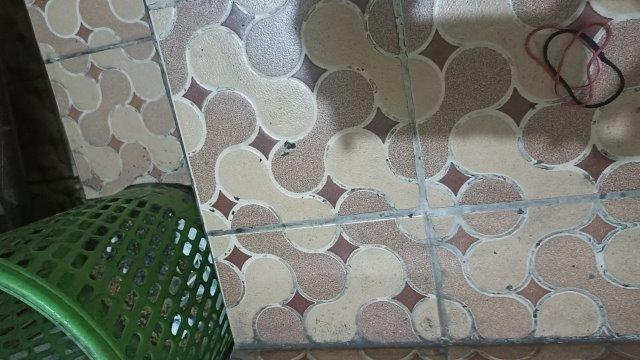karet: (525, 21, 625, 108)
